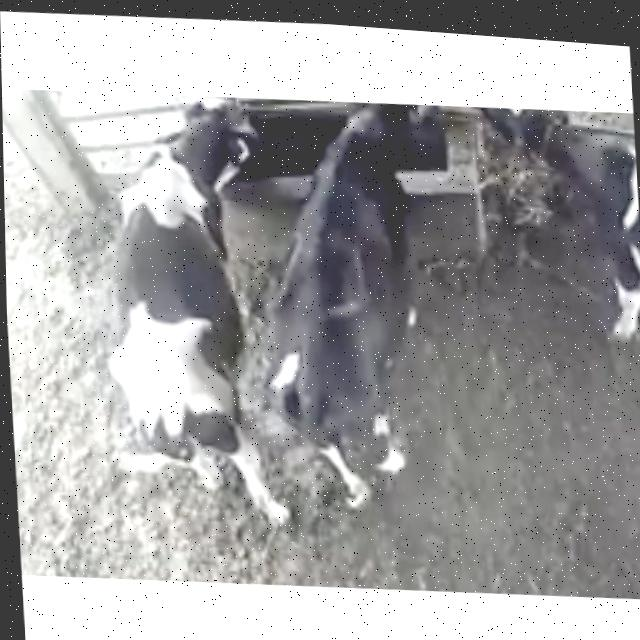drink: (143, 89, 276, 218), (298, 95, 429, 211)
